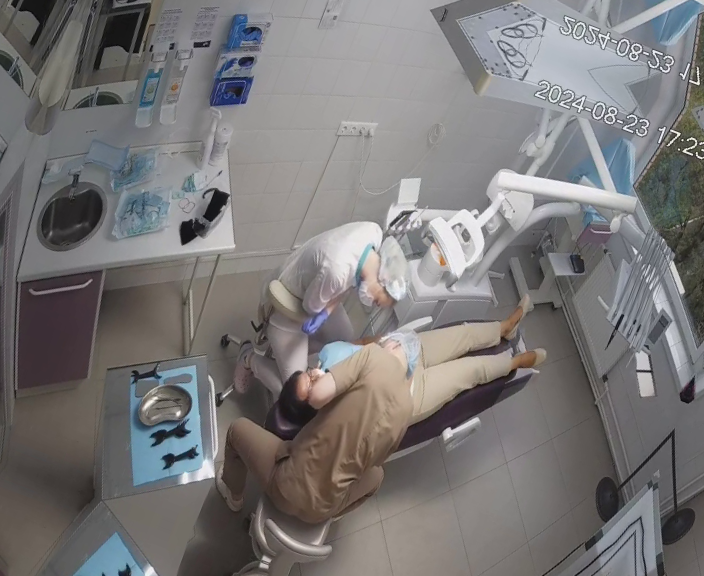Patient: (265, 223, 566, 513)
